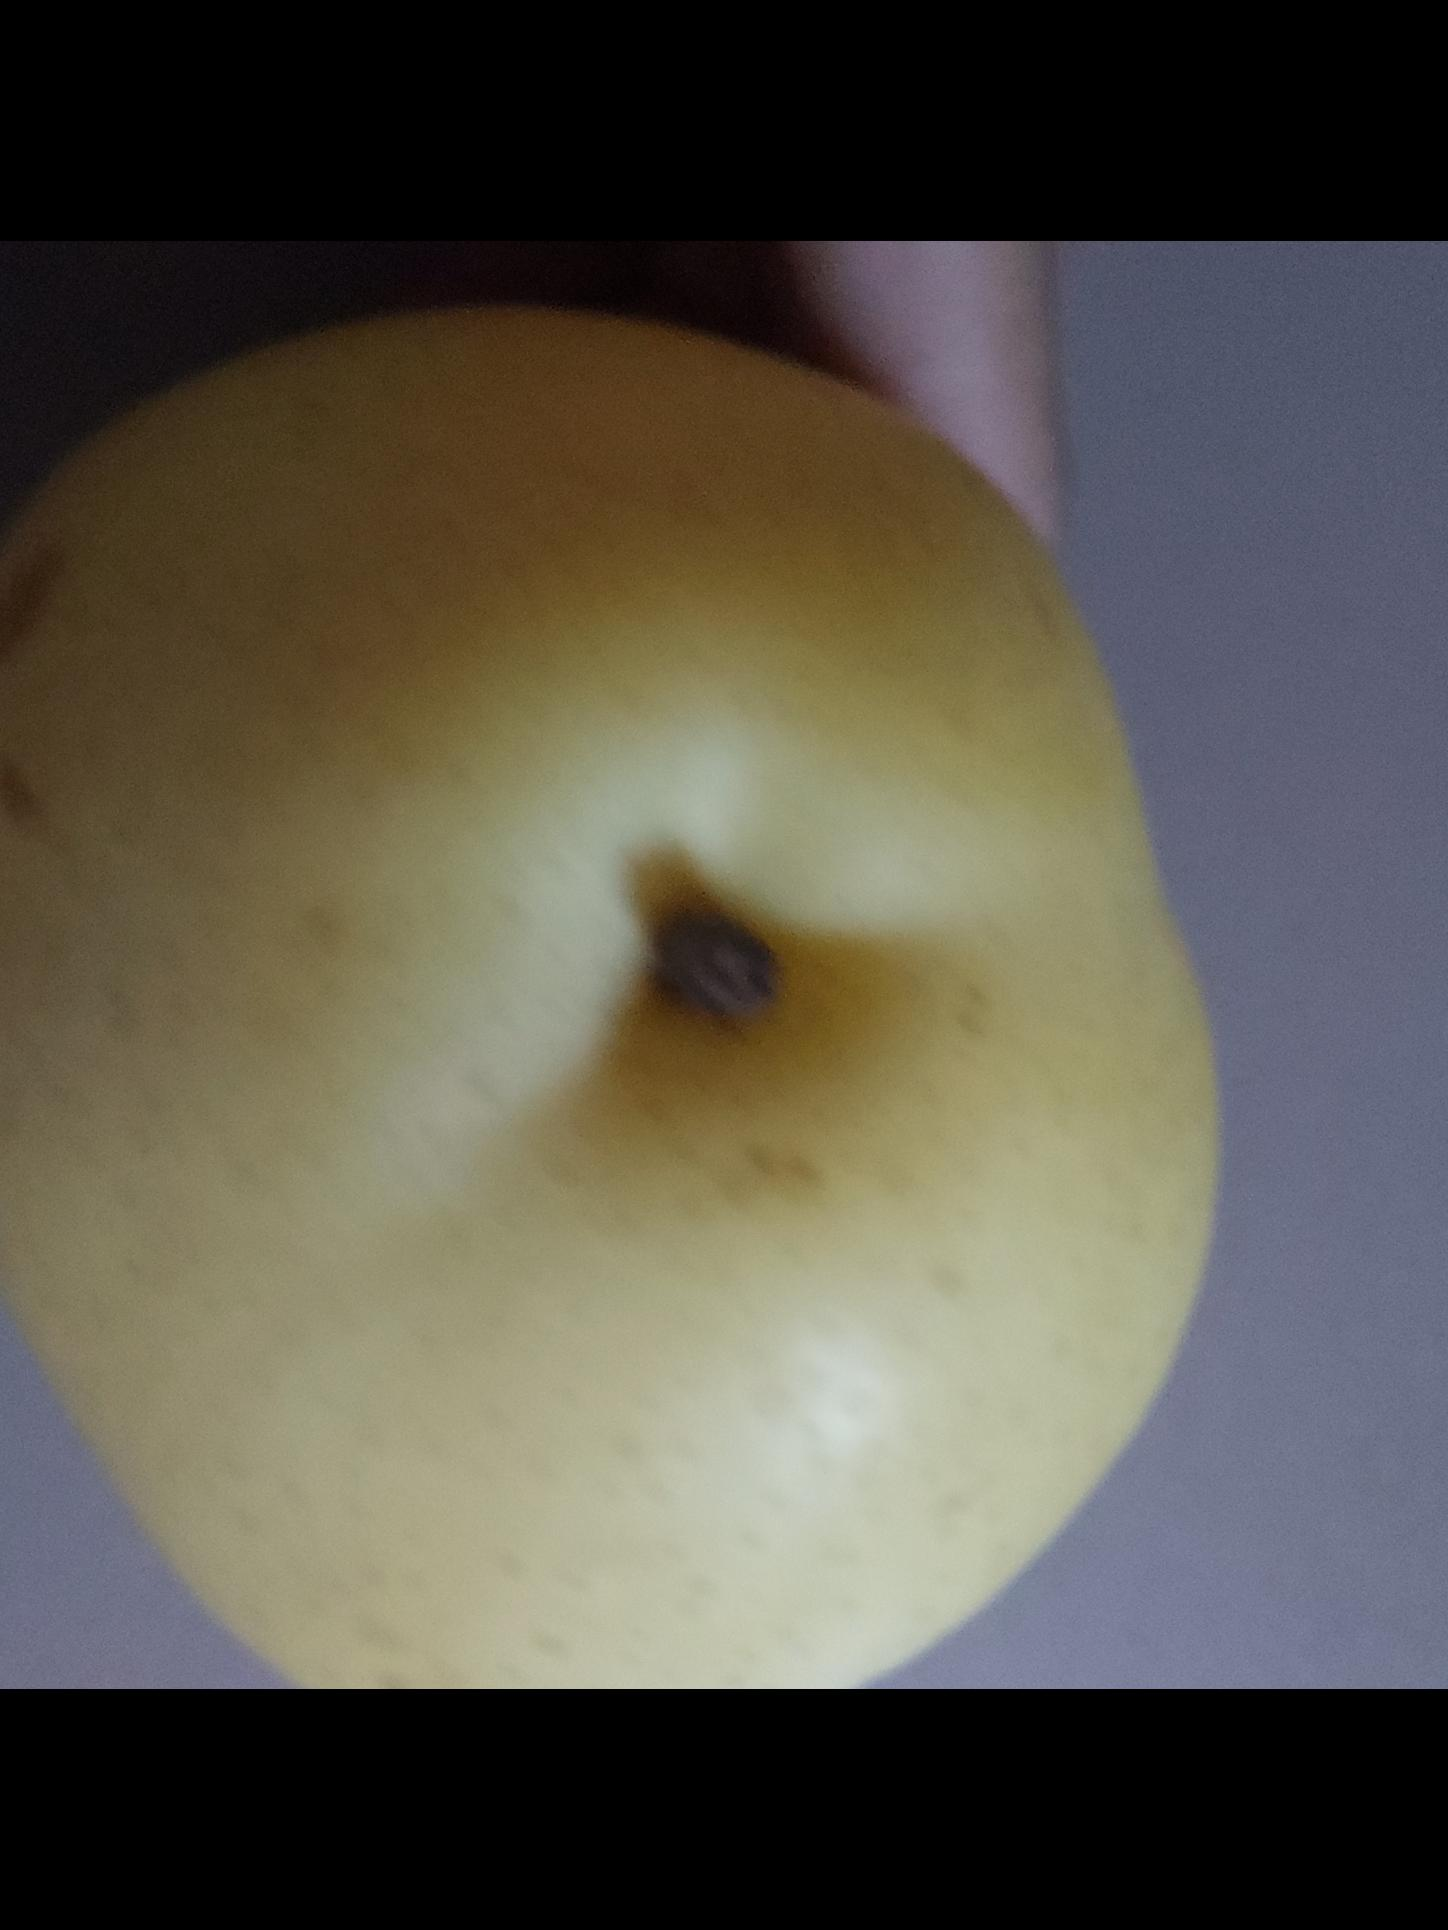Good Pear: (0, 297, 1220, 1690)
